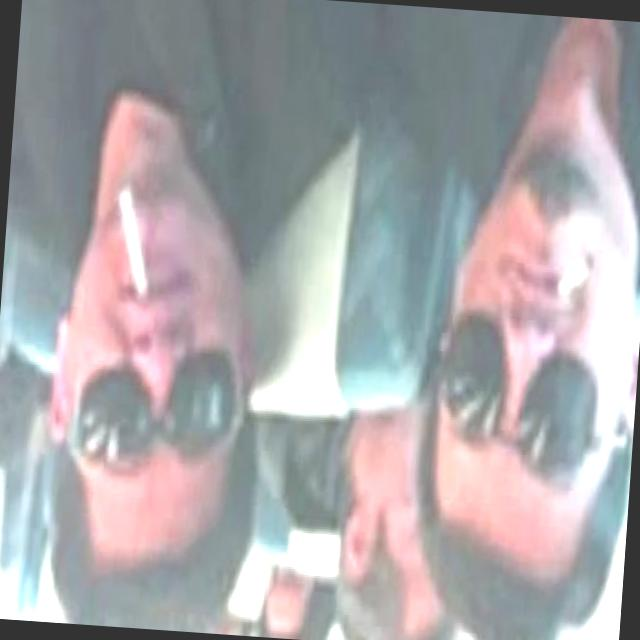cigarette: (92, 164, 178, 338), (532, 210, 614, 336)
